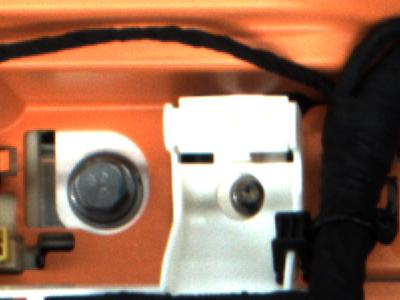nut_b: (65, 155, 146, 231)
